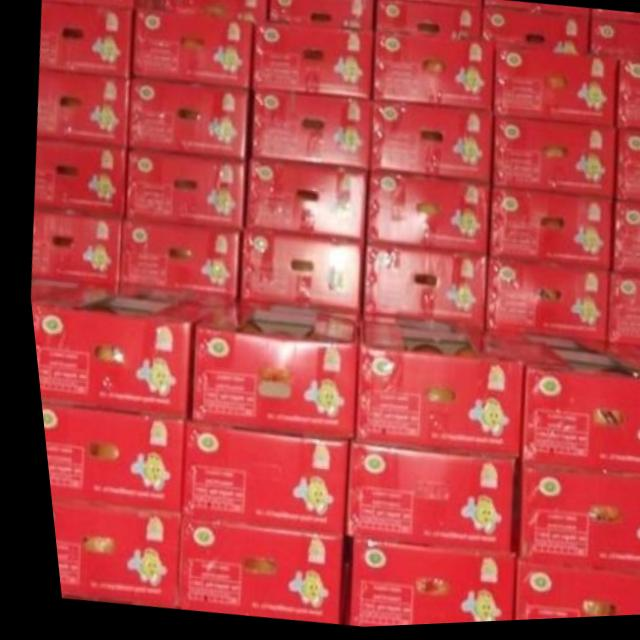box: (25, 276, 233, 423), (177, 298, 353, 446), (343, 320, 517, 461), (483, 332, 640, 479), (169, 423, 341, 539), (331, 447, 507, 553), (162, 515, 331, 624), (502, 463, 640, 582), (33, 402, 177, 515), (326, 540, 503, 629), (40, 495, 169, 605), (231, 232, 361, 320), (352, 245, 482, 331), (361, 172, 486, 261), (237, 159, 366, 245), (486, 117, 613, 204), (483, 186, 608, 272), (478, 261, 604, 346), (118, 148, 244, 232), (490, 48, 617, 131), (128, 10, 254, 93), (241, 92, 371, 172), (123, 76, 248, 159), (371, 34, 493, 119), (366, 105, 490, 188), (113, 219, 237, 298), (248, 26, 374, 103), (500, 563, 640, 624), (35, 68, 126, 148), (31, 141, 122, 221), (39, 1, 133, 76), (27, 208, 118, 284), (481, 4, 589, 61), (375, 0, 481, 46), (266, 0, 374, 37), (602, 277, 640, 352), (158, 0, 268, 24), (605, 204, 640, 279), (587, 17, 640, 64), (609, 133, 640, 207), (612, 62, 640, 136), (42, 0, 159, 11)
